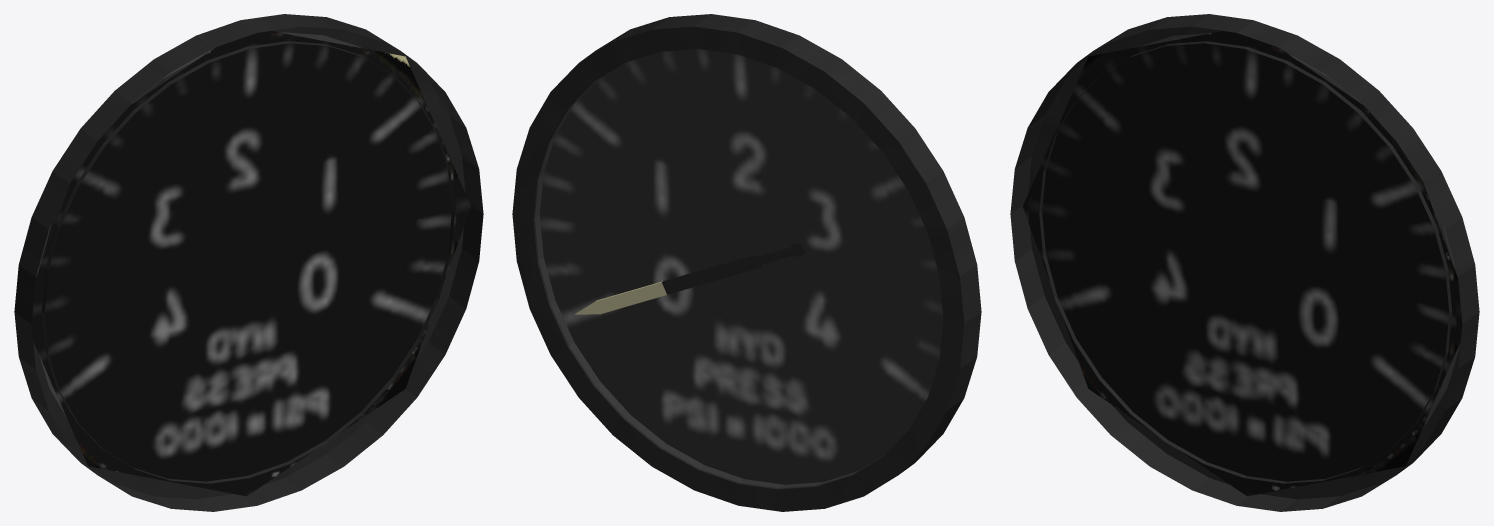
Rendered from hydpress.obj.
3 views of the same model, side by side, from view 1: azimuth 30°, elevation 25°; view 2: azimuth 150°, elevation 25°; view 3: azimuth 330°, elevation 25° (orthographic).
Visible parts, largest first — view 1: face, fond; view 2: face, vitre, fond, needle; view 3: face, fond.
Part boxes in pixels (x1,y1,x2,y2): face: (31, 31, 471, 496); fond: (14, 14, 483, 511); face: (539, 49, 943, 484); vitre: (535, 49, 942, 487); fond: (512, 14, 981, 511); needle: (575, 242, 806, 314); face: (1022, 31, 1462, 496); fond: (1010, 14, 1479, 511).
Size of the model in its own units: 0.0758 by 0.0758 by 0.005.
2 materials, 1 textured.
